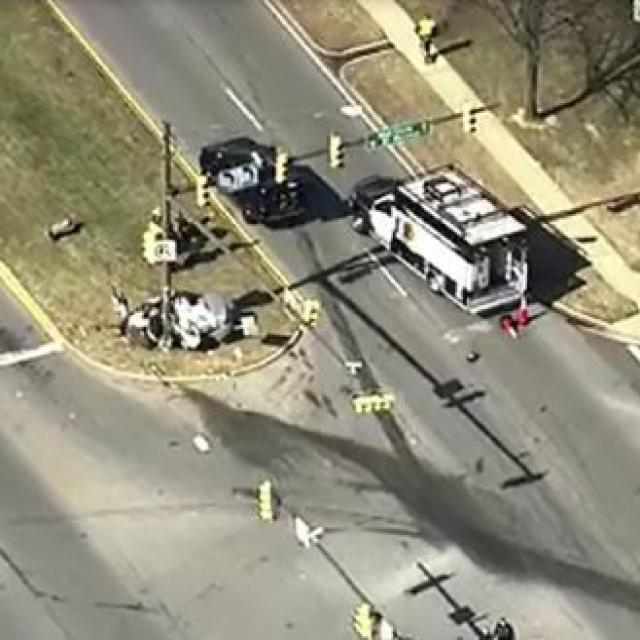traffic_incident: (113, 285, 235, 353)
